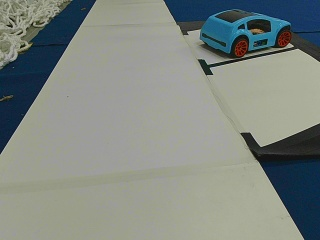car: (200, 11, 292, 56)
